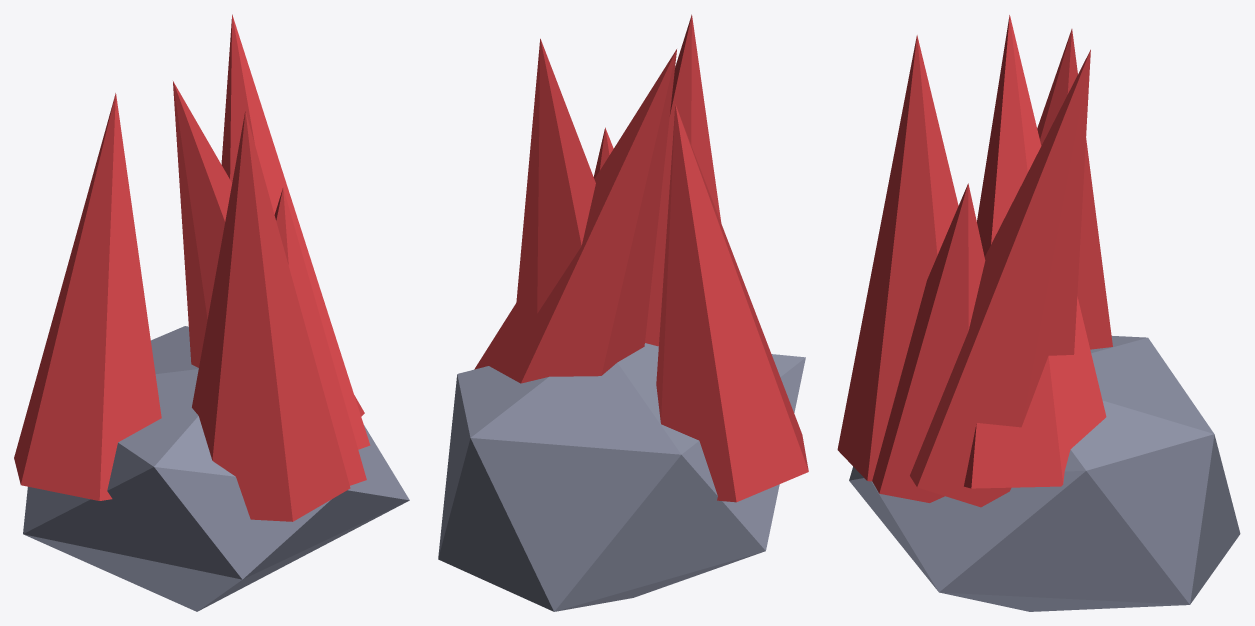
The model's file is SM_Ore_GemCluster.fbx.
3 renders of one model, left to right at view 1: azimuth 30°, elevation 25°; view 2: azimuth 150°, elevation 25°; view 3: azimuth 270°, elevation 25°, orthographic. The views are drawn at different scales.
Visible parts, largest first — view 1: SM_Ore_GemCluster; view 2: SM_Ore_GemCluster; view 3: SM_Ore_GemCluster.
Boxes of the visible parts, x1,y1,x2,y2 form: SM_Ore_GemCluster: [14, 14, 409, 611]; SM_Ore_GemCluster: [438, 14, 808, 611]; SM_Ore_GemCluster: [837, 15, 1240, 611].
Size of the model in its own units: 0.4095 by 0.6363 by 0.3899.
